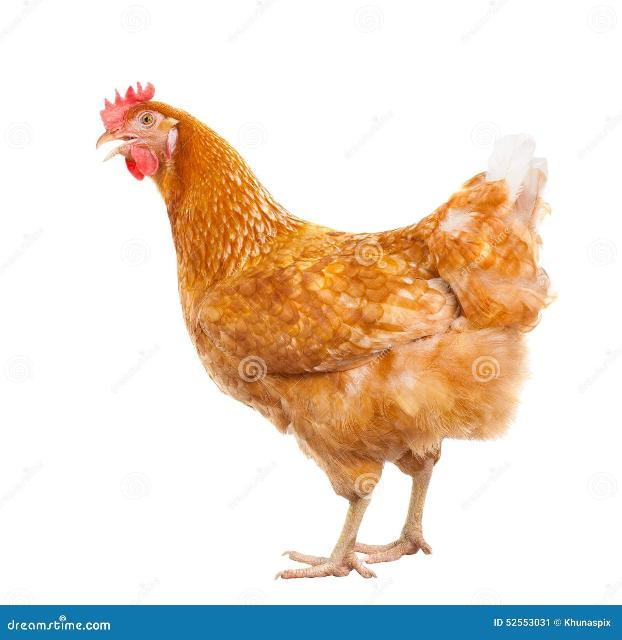Chicken: (94, 82, 557, 580)
